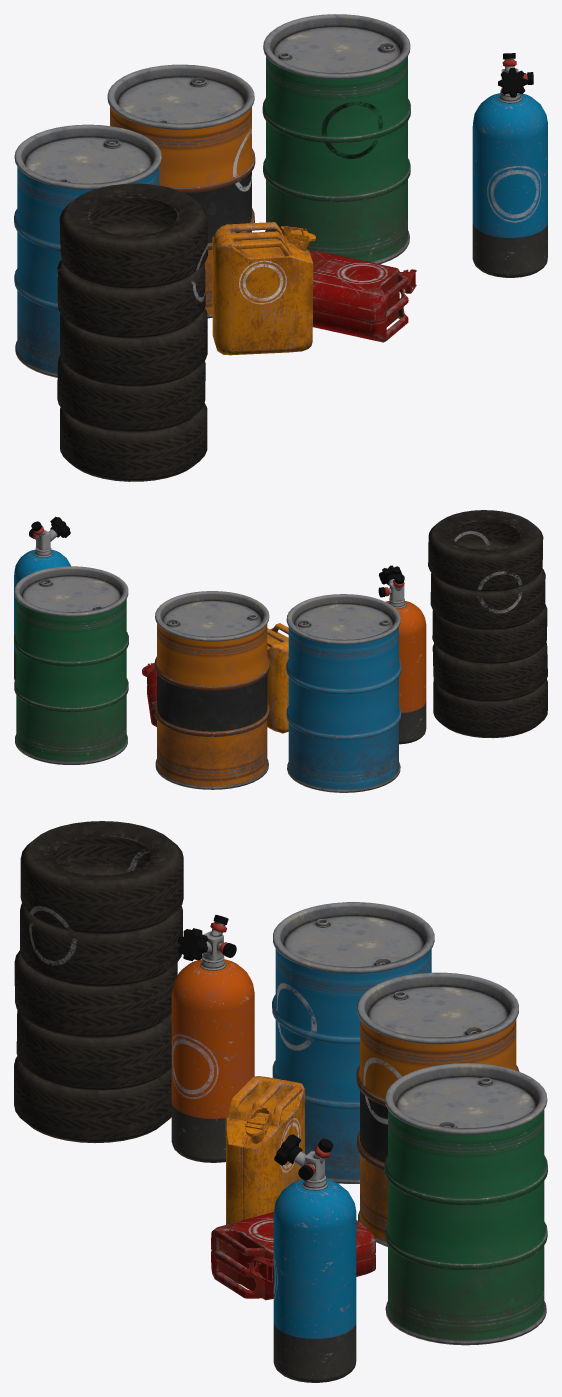
3 renders of one model, top to bottom at view 1: azimuth 30°, elevation 25°; view 2: azimuth 150°, elevation 25°; view 3: azimuth 270°, elevation 25°, orthographic. The views are drawn at different scales.
Visible parts, largest first — view 1: pup_tyre_stack_red, pup_drum_green, pup_drum_yellow, pup_drum_red, pup_canister_blue, pup_jerry_can_yellow, pup_jerry_can_red; view 2: pup_tyre_stack_red, pup_drum_red, pup_drum_yellow, pup_drum_green, pup_canister_green, pup_jerry_can_yellow, pup_canister_blue, pup_jerry_can_red; view 3: pup_tyre_stack_red, pup_drum_green, pup_drum_red, pup_drum_yellow, pup_canister_blue, pup_canister_green, pup_jerry_can_yellow, pup_jerry_can_red.
Boxes of the visible parts, x1,y1,x2,y2 form: pup_tyre_stack_red: (57, 183, 207, 481); pup_drum_green: (262, 14, 410, 264); pup_drum_yellow: (107, 64, 255, 318); pup_drum_red: (14, 124, 161, 377); pup_canister_blue: (472, 53, 547, 277); pup_jerry_can_yellow: (212, 222, 315, 355); pup_jerry_can_red: (309, 250, 416, 342); pup_tyre_stack_red: (428, 510, 547, 738); pup_drum_red: (286, 594, 401, 792); pup_drum_yellow: (154, 591, 269, 789); pup_drum_green: (14, 566, 128, 764); pup_canister_green: (378, 565, 426, 744); pup_jerry_can_yellow: (267, 623, 288, 733); pup_canister_blue: (14, 516, 70, 680); pup_jerry_can_red: (142, 663, 156, 726); pup_tyre_stack_red: (14, 821, 183, 1142); pup_drum_green: (384, 1063, 547, 1345); pup_drum_red: (272, 902, 434, 1183); pup_drum_yellow: (356, 972, 519, 1246); pup_canister_blue: (273, 1134, 356, 1382); pup_canister_green: (171, 915, 254, 1162); pup_jerry_can_yellow: (225, 1076, 305, 1224); pup_jerry_can_red: (211, 1212, 375, 1300).
Size of what is drawn, in the model's own units: 3.03 by 1.23 by 2.22.
8 materials, 8 textured.
